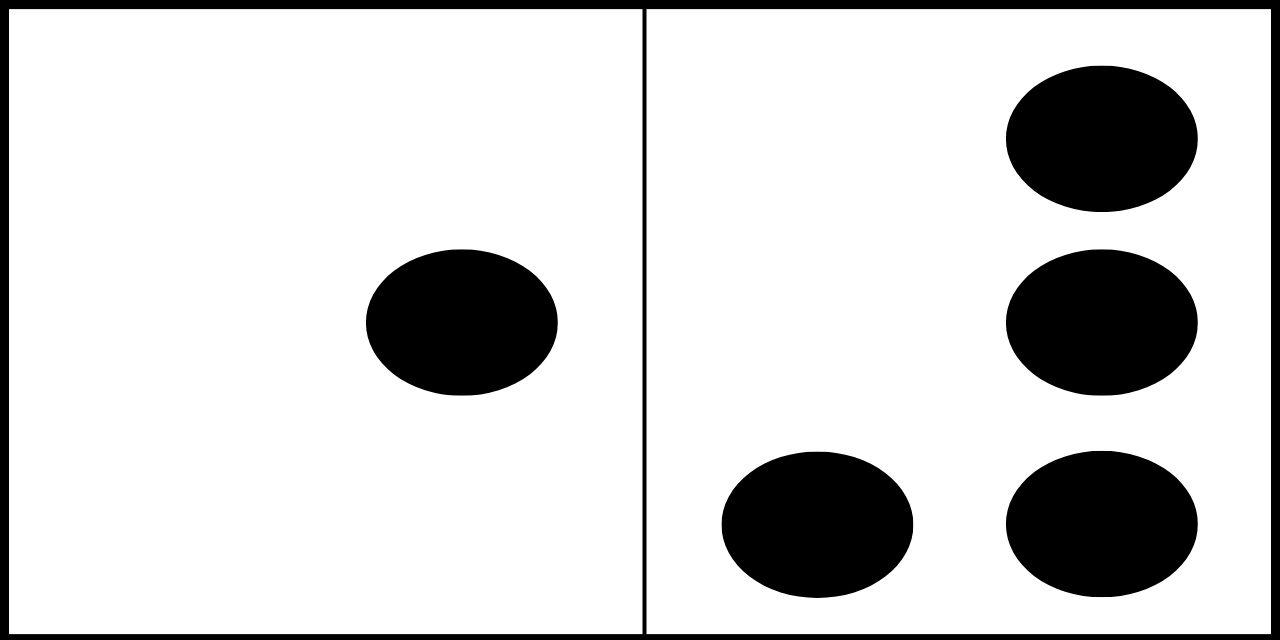dot_5: (93, 62, 558, 600)
two_cell_non_alphabet_bulaklak: (719, 61, 1201, 601)
